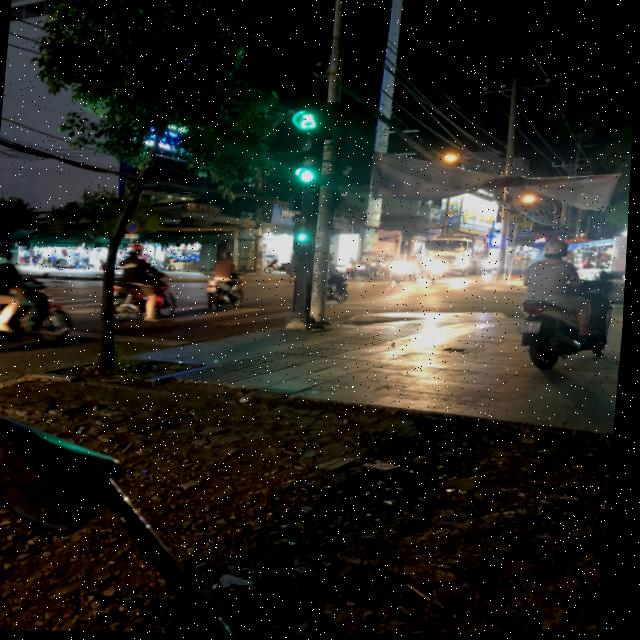Green: (291, 139, 328, 192), (295, 216, 317, 253)
